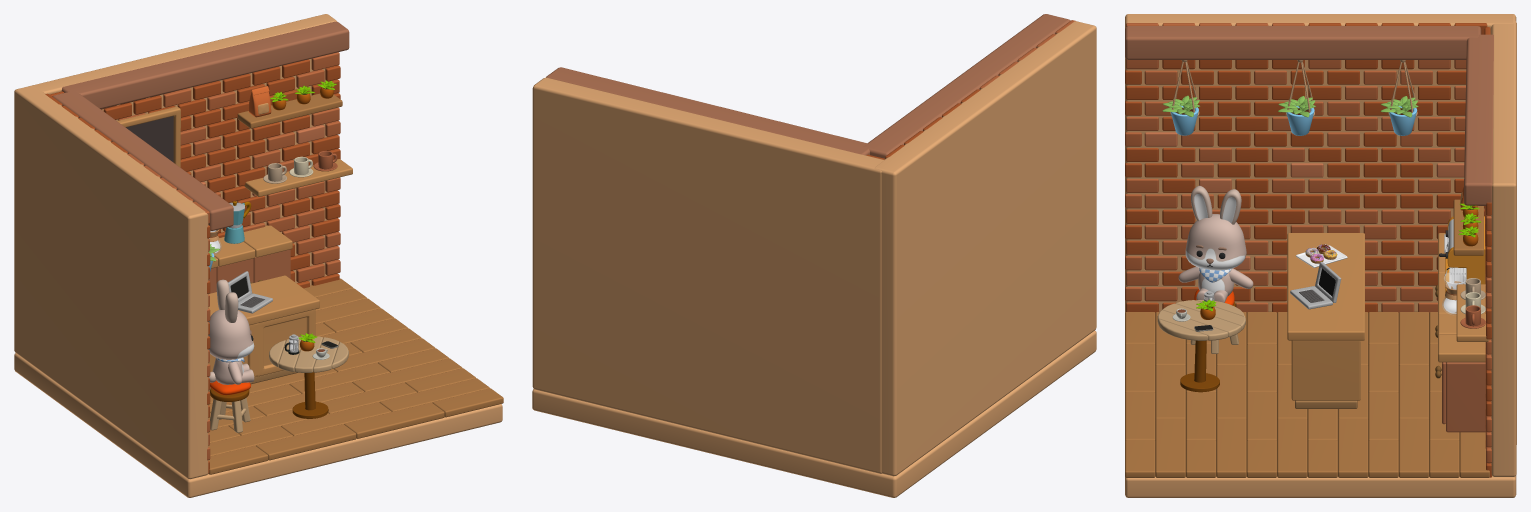
Rendered from coffee-shop-draco.glb.
3 views of the same model, side by side, from view 1: azimuth 30°, elevation 25°; view 2: azimuth 150°, elevation 25°; view 3: azimuth 270°, elevation 25° (orthographic). The views are drawn at different scales.
Visible parts, largest first — view 1: SM_wall, SM_plank_floor, SM_brick_wall.001, SM_floor, SM_wooden_beam, SM_service_counter, SM_wall.001, SM_wooden_beam.001, bunny, SM_table, SM_menu_board.002, SM_cabinet_Right (+8 smaller); view 2: SM_wall.001, SM_wall, SM_floor, SM_wooden_beam.001, SM_wooden_beam, SM_brick_wall; view 3: SM_brick_wall, SM_plank_floor, SM_wall, SM_wooden_beam.001, SM_wall.001, SM_service_counter, SM_floor, bunny, SM_wooden_beam, SM_cabinet_Right, SM_table, SM_brick_wall.001 (+8 smaller).
Part boxes in pixels (left/top/right/bottom): SM_wall: left=14, top=85, right=208, bottom=479; SM_plank_floor: left=208, top=278, right=503, bottom=474; SM_brick_wall.001: left=50, top=52, right=340, bottom=288; SM_floor: left=14, top=353, right=502, bottom=497; SM_wooden_beam: left=61, top=21, right=349, bottom=108; SM_service_counter: left=208, top=275, right=319, bottom=391; SM_wall.001: left=32, top=14, right=337, bottom=285; SM_wooden_beam.001: left=52, top=91, right=233, bottom=230; bunny: left=208, top=279, right=254, bottom=384; SM_table: left=269, top=336, right=348, bottom=418; SM_menu_board.002: left=117, top=106, right=180, bottom=167; SM_cabinet_Right: left=243, top=225, right=292, bottom=282; SM_wall.001: left=532, top=77, right=883, bottom=473; SM_wall: left=874, top=21, right=1096, bottom=476; SM_floor: left=532, top=330, right=1096, bottom=497; SM_wooden_beam.001: left=864, top=14, right=1070, bottom=158; SM_wooden_beam: left=546, top=67, right=869, bottom=155; SM_brick_wall: left=885, top=20, right=1075, bottom=158; SM_brick_wall: left=1125, top=23, right=1487, bottom=312; SM_plank_floor: left=1125, top=311, right=1489, bottom=477; SM_wall: left=1125, top=14, right=1516, bottom=312; SM_wooden_beam.001: left=1125, top=26, right=1481, bottom=59; SM_wall.001: left=1491, top=21, right=1516, bottom=476; SM_service_counter: left=1287, top=233, right=1364, bottom=408; SM_floor: left=1125, top=475, right=1516, bottom=497; bunny: left=1178, top=185, right=1253, bottom=302; SM_wooden_beam: left=1464, top=34, right=1493, bottom=205; SM_cabinet_Right: left=1435, top=334, right=1485, bottom=432; SM_table: left=1157, top=300, right=1245, bottom=392; SM_brick_wall.001: left=1484, top=27, right=1491, bottom=477.
Size of the model in its own units: 5.09 by 4.35 by 4.9.
9 materials, 5 textured.
